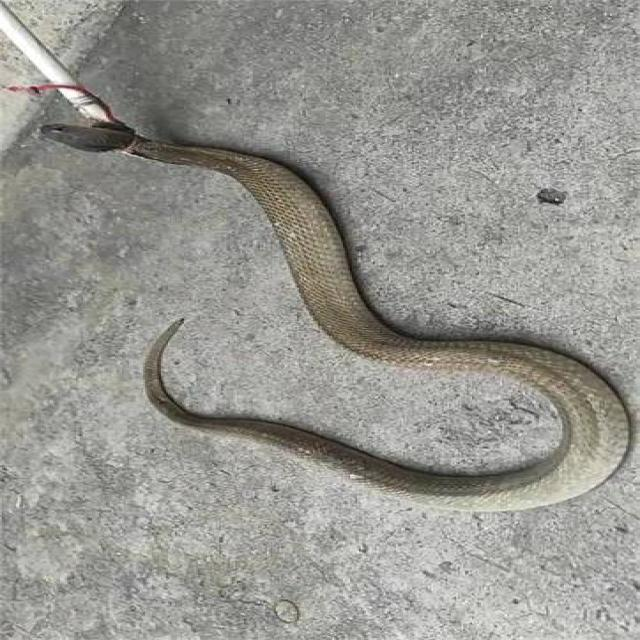Venomous: (53, 108, 214, 178)
